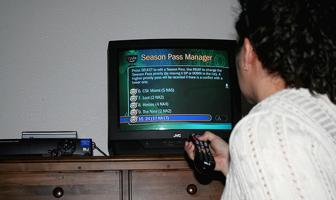person: (184, 2, 336, 199)
